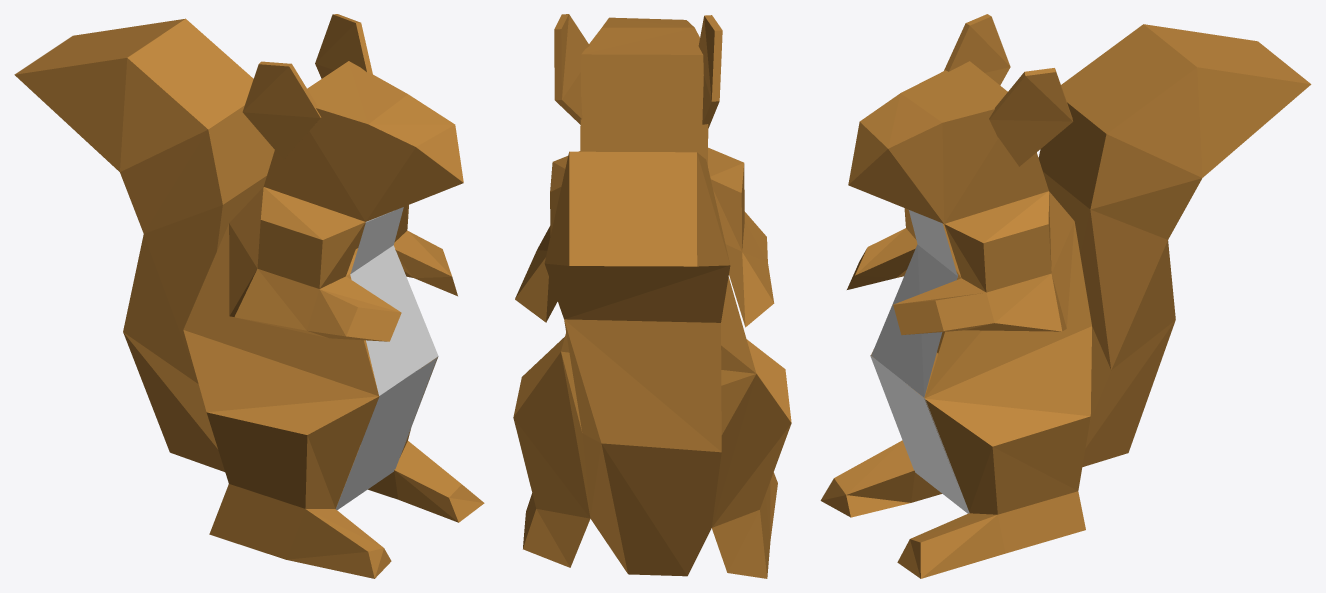
3 views of the same model, side by side, from view 1: azimuth 30°, elevation 25°; view 2: azimuth 150°, elevation 25°; view 3: azimuth 270°, elevation 25° (orthographic). The views are drawn at different scales.
Parts seen in each view (by area): view 1: node_MeshObject1318748096-PolyPaper21; view 2: node_MeshObject1318748096-PolyPaper21; view 3: node_MeshObject1318748096-PolyPaper21.
Boxes of the visible parts, box(x1,y1,x2,y2) form: node_MeshObject1318748096-PolyPaper21: box(14, 14, 484, 578); node_MeshObject1318748096-PolyPaper21: box(513, 14, 791, 578); node_MeshObject1318748096-PolyPaper21: box(820, 14, 1311, 578).
Size of the model in its own units: 0.2679 by 0.3946 by 0.3687.
